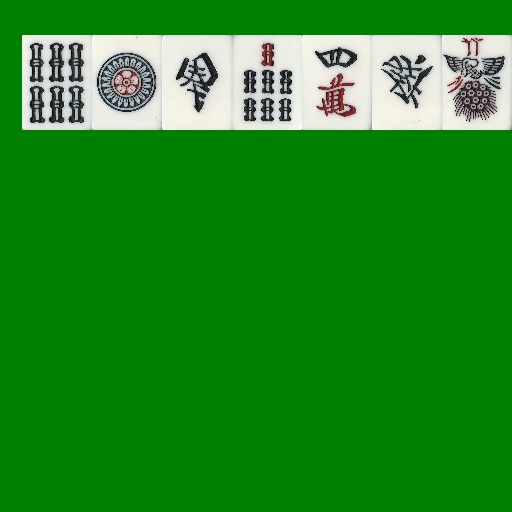1p: (92, 35, 162, 130)
1s: (442, 35, 512, 130)
4m: (302, 35, 372, 130)
6s: (22, 35, 92, 130)
7s: (232, 35, 302, 130)
hatsu: (372, 35, 442, 130)
south: (162, 35, 232, 130)
